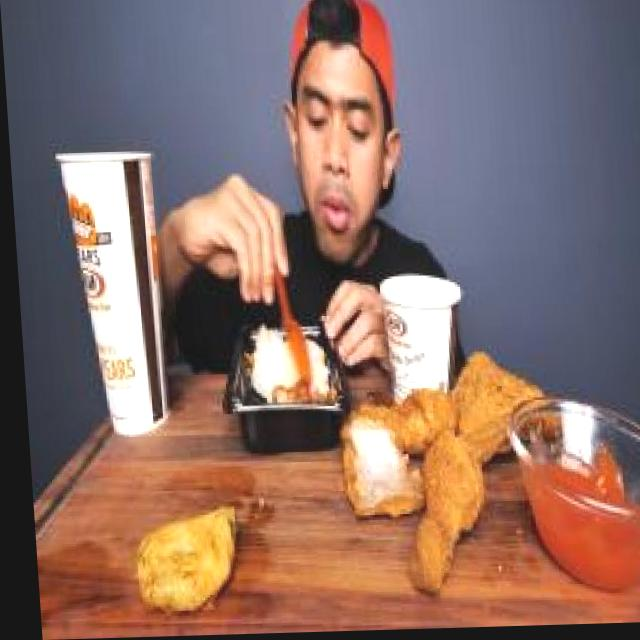AW cola: (42, 127, 174, 457)
black pepper rice bowl: (233, 291, 339, 448)
crispy corn: (375, 266, 480, 417)
fried chicken: (329, 343, 549, 586)
perkedel: (111, 485, 243, 633)
